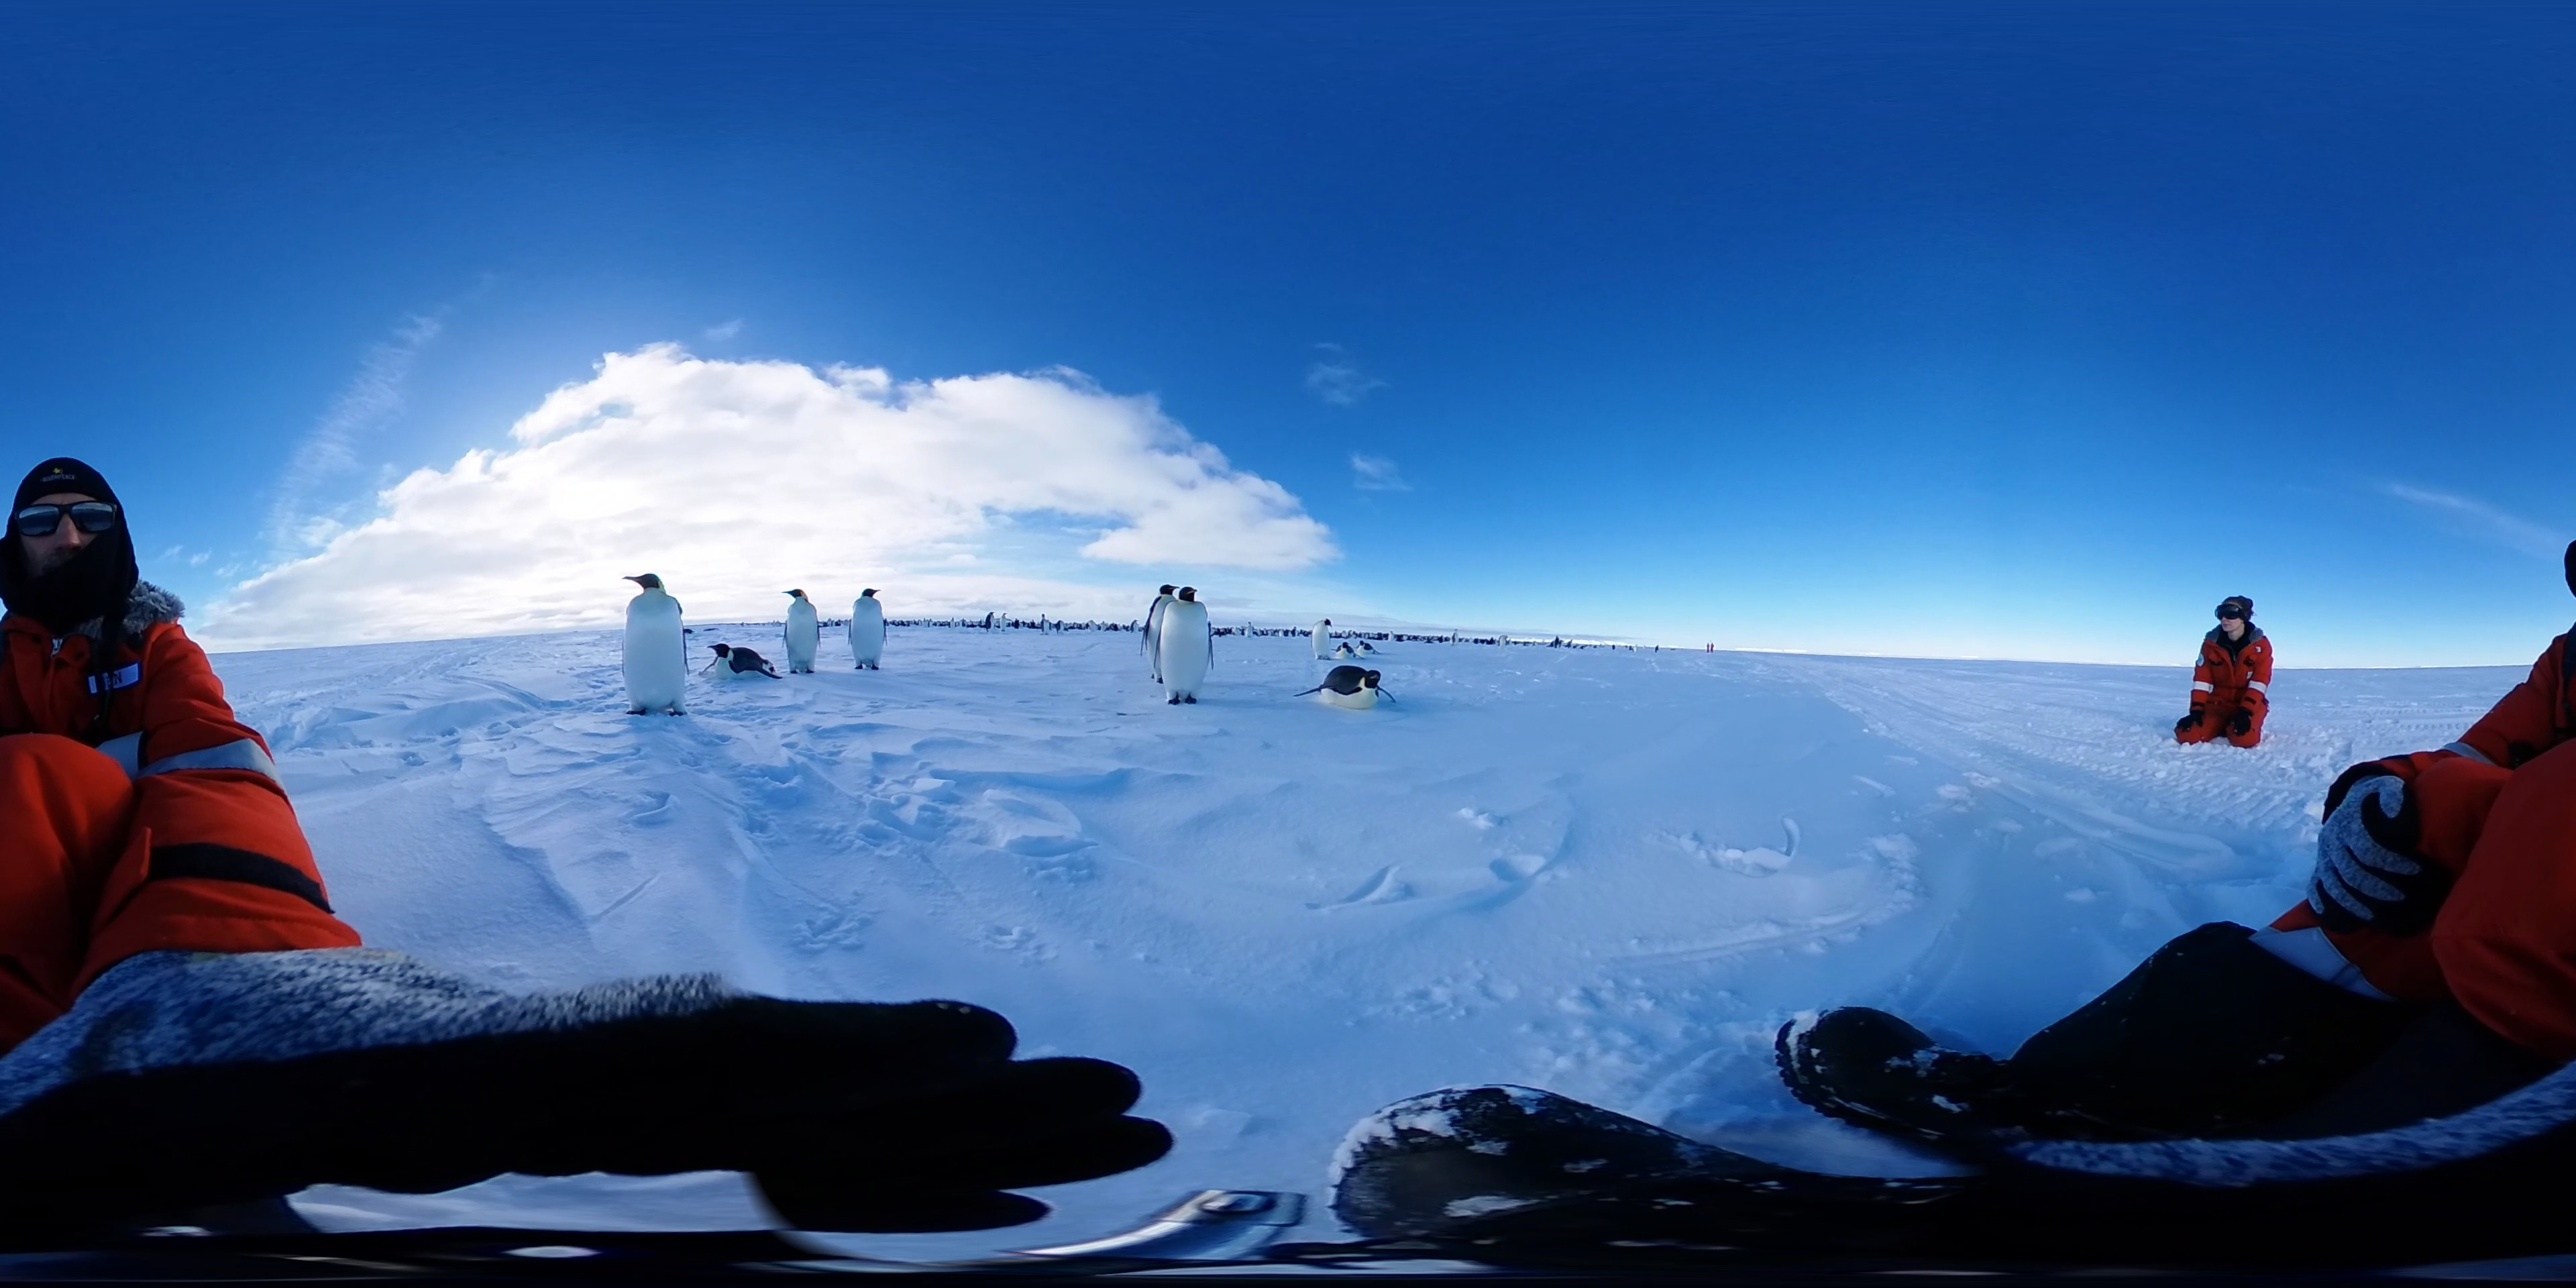adult_standing_penguin: (618, 570, 697, 720), (1158, 582, 1217, 706), (1288, 662, 1398, 711), (1142, 580, 1189, 682), (775, 588, 823, 675), (844, 585, 890, 672), (1309, 618, 1336, 662)
adult_toboggan_penguin: (695, 639, 780, 680), (1334, 637, 1360, 662), (1357, 639, 1380, 655)
researcher: (0, 452, 371, 1061), (2236, 529, 2576, 1102), (2173, 593, 2280, 752)
